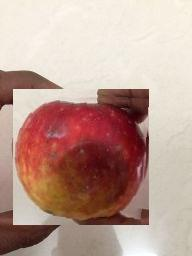Apple Semirotten: (13, 89, 149, 225)
